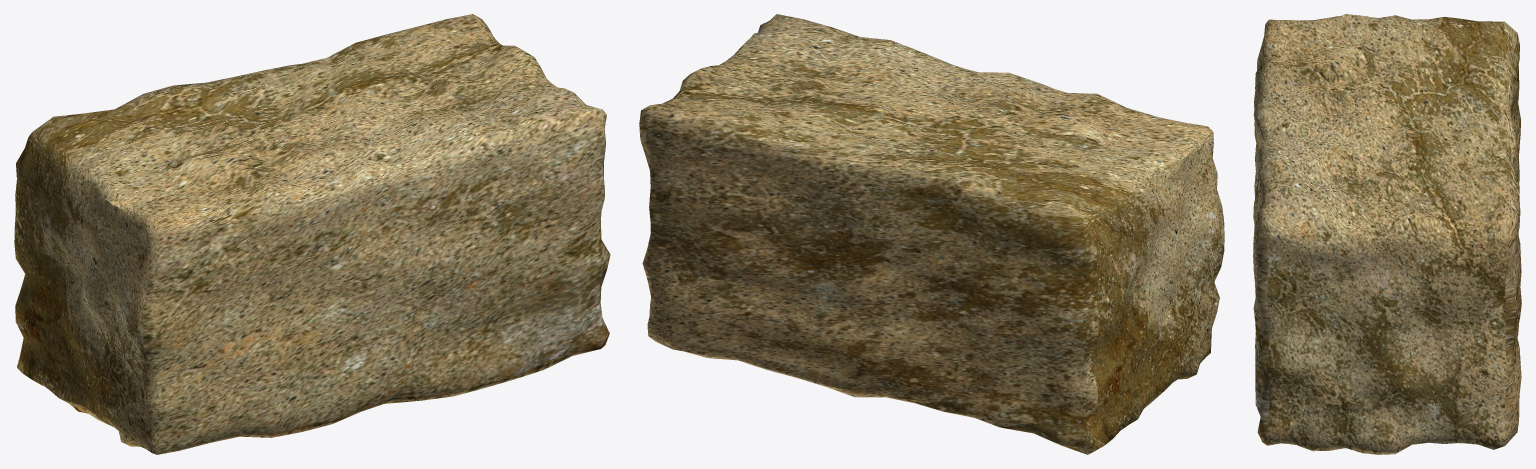
File: StoneBlock1.5.dae
3 views of the same model, side by side, from view 1: azimuth 30°, elevation 25°; view 2: azimuth 150°, elevation 25°; view 3: azimuth 270°, elevation 25° (orthographic). The views are drawn at different scales.
Visible parts, largest first — view 1: Stone_block; view 2: Stone_block; view 3: Stone_block.
Boxes of the visible parts, left/top/right/bottom form: Stone_block: left=14, top=14, right=610, bottom=454; Stone_block: left=639, top=14, right=1224, bottom=454; Stone_block: left=1253, top=14, right=1521, bottom=454.
Size of the model in its own units: 418 by 216 by 217.
